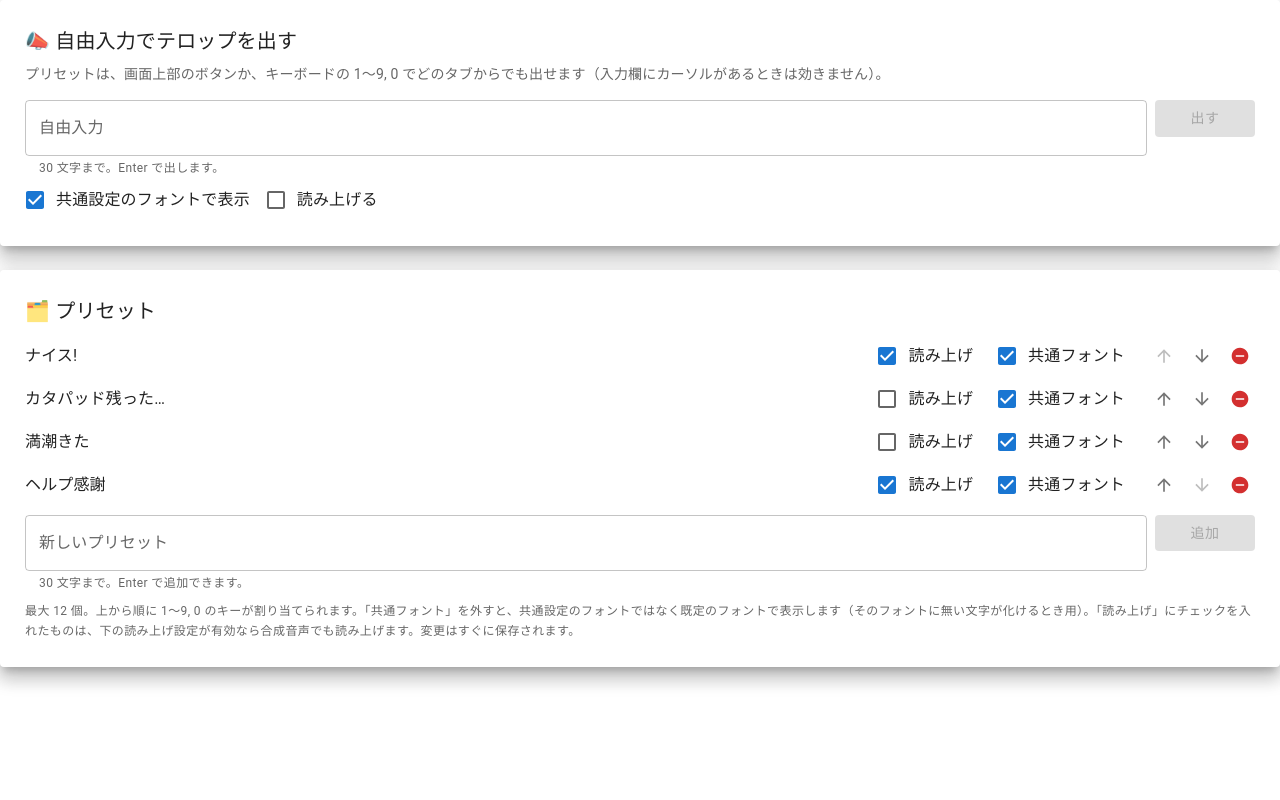
Test: TelopPanel › adds a preset with the next id
This screenshot has width=1280, height=800.
Expected: the heading "📣 自由入力でテロップを出す" is shown, [25,29,297,53]
Step 1. Type "カンスト!" into the field labelled "新しいプリセット" → (586, 543), box [25,515,1147,571]
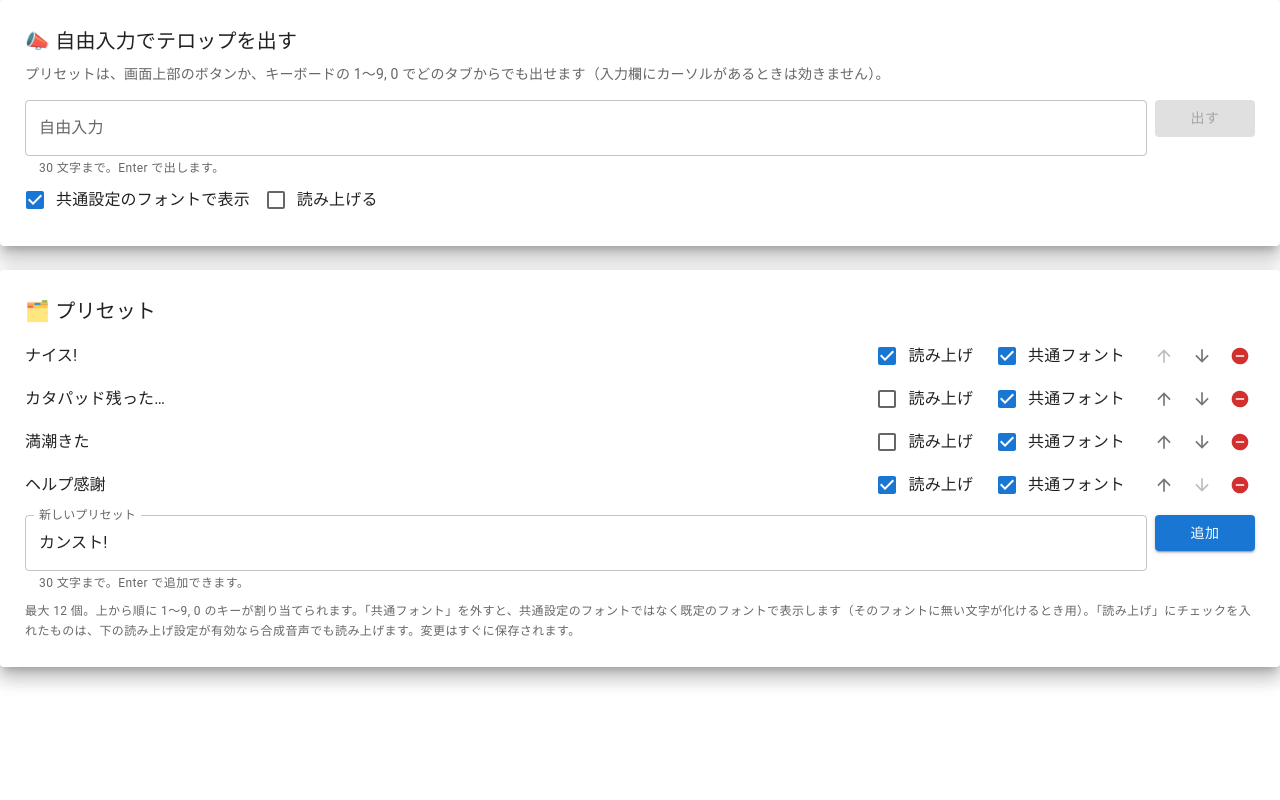
Step 2. Click the button "追加" → click(1205, 533), box [1155,515,1255,551]
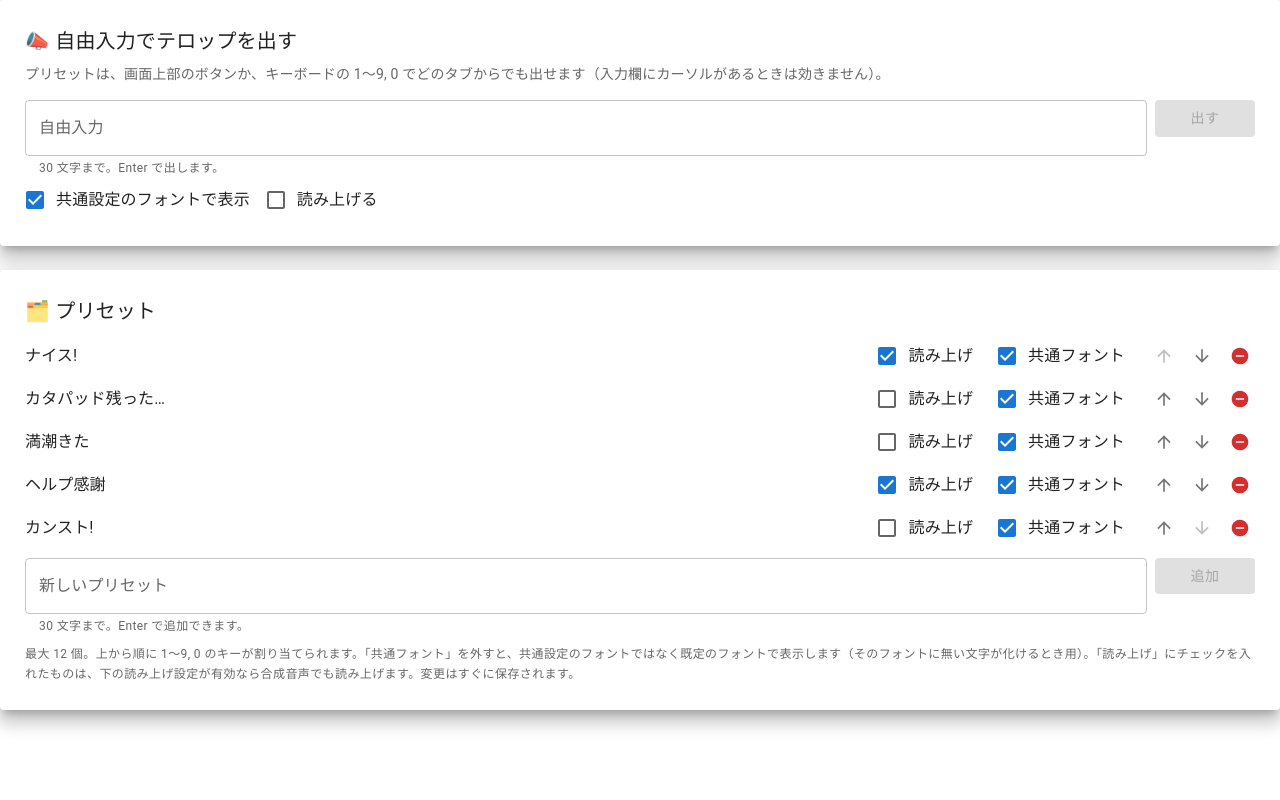
Expected: the text "カンスト!" is shown, [25,518,94,537]
